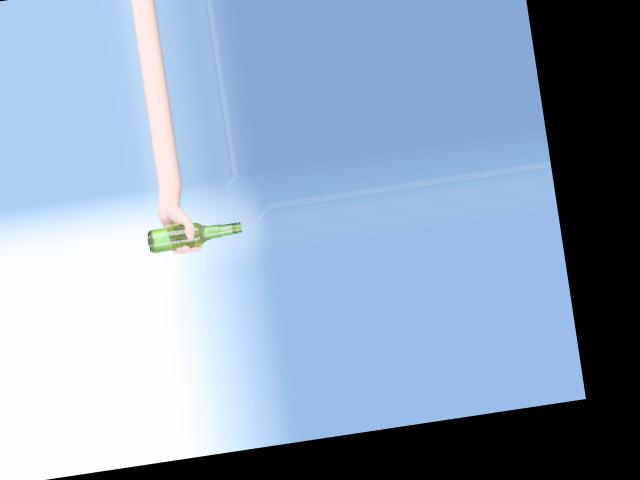beer: (146, 216, 243, 252)
